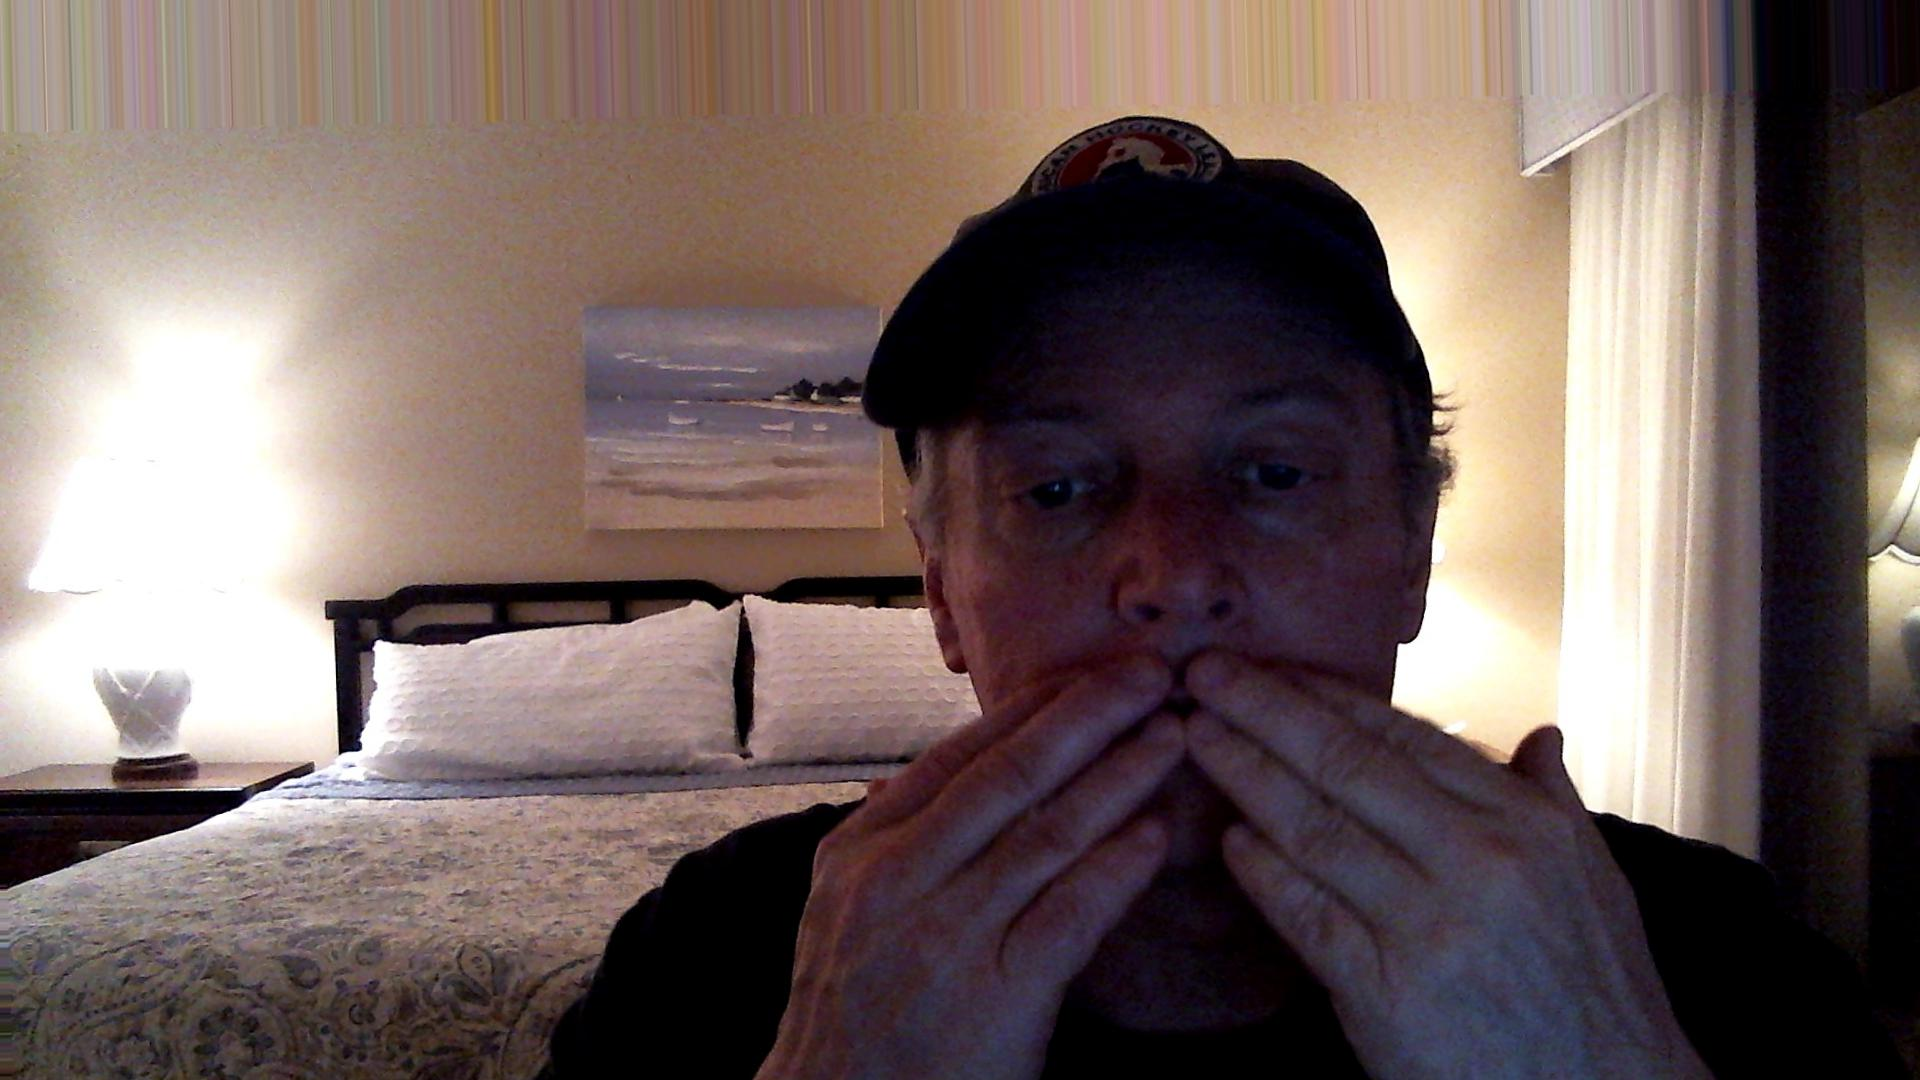Thank You: (688, 632, 1717, 1080)
